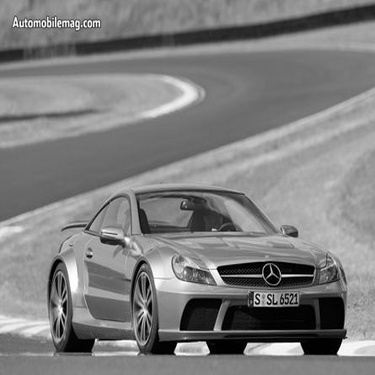car: (35, 177, 359, 362)
